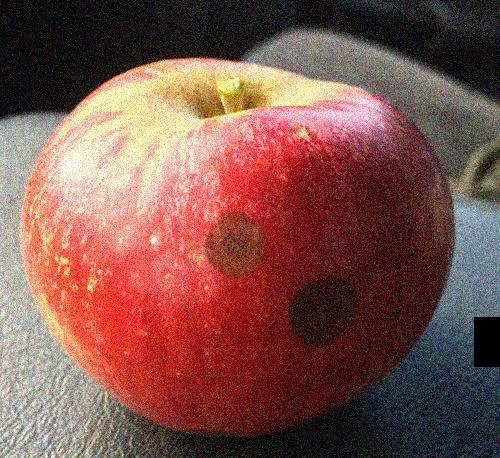rotten apple: (20, 59, 456, 437)
